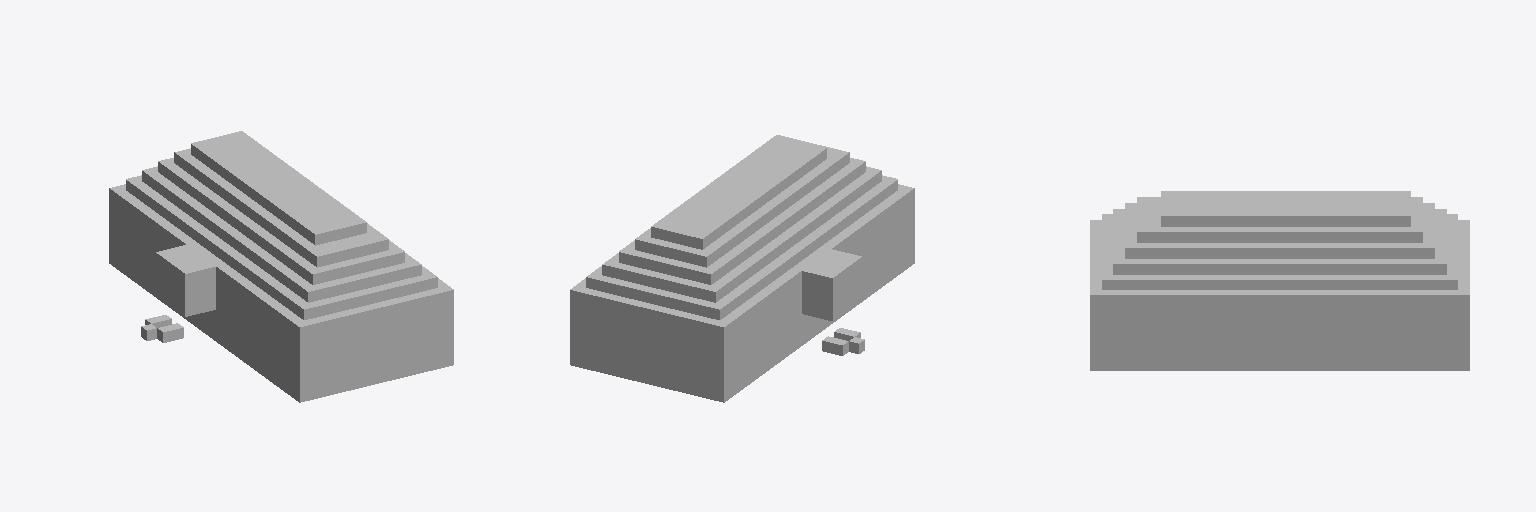
The model's file is Tutorial Map V1.0-1.obj.
3 views of the same model, side by side, from view 1: azimuth 30°, elevation 25°; view 2: azimuth 150°, elevation 25°; view 3: azimuth 270°, elevation 25° (orthographic).
Parts seen in each view (by area): view 1: object 1; view 2: object 1; view 3: object 1.
Boxes of the visible parts, <box> form: object 1: <box>109,131,453,402</box>; object 1: <box>570,135,914,402</box>; object 1: <box>1090,191,1469,370</box>.
Bounding box in the file's own units: 2 × 1.2 × 3.2.